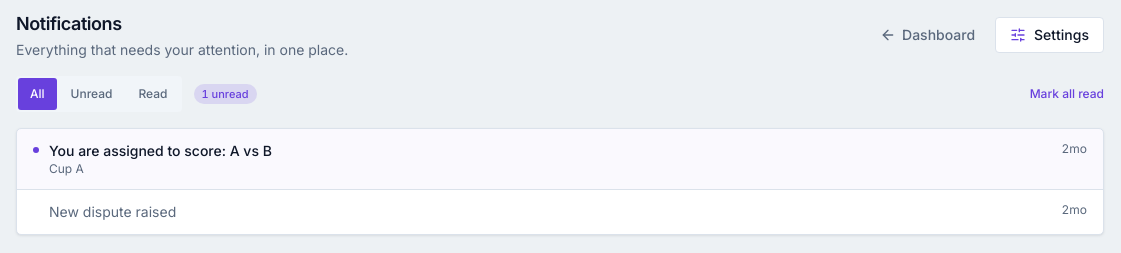
NotificationPrefsPage › filters the inbox by read state
Expected: the text "You are assigned to score: A vs B" is shown, left=49, top=142, right=272, bottom=159
Click the button "Unread" at (92, 94), box left=59, top=78, right=124, bottom=110
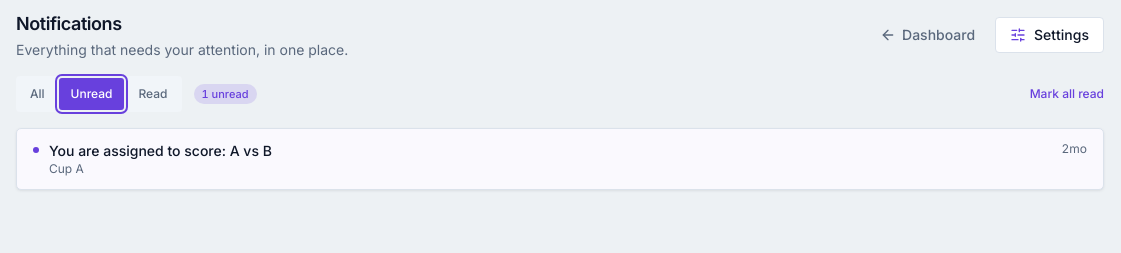
Expected: the text "You are assigned to score: A vs B" is shown, left=49, top=142, right=272, bottom=159
Expected: the button "New dispute raised" is gone
Click the button "Read" at (153, 94), box left=126, top=78, right=180, bottom=110
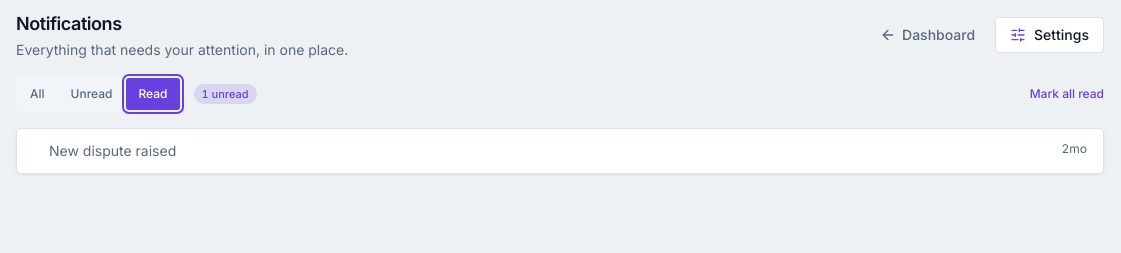
Expected: the text "New dispute raised" is shown, left=49, top=142, right=176, bottom=159
Expected: the link "You are assigned to score: A vs B" is gone
